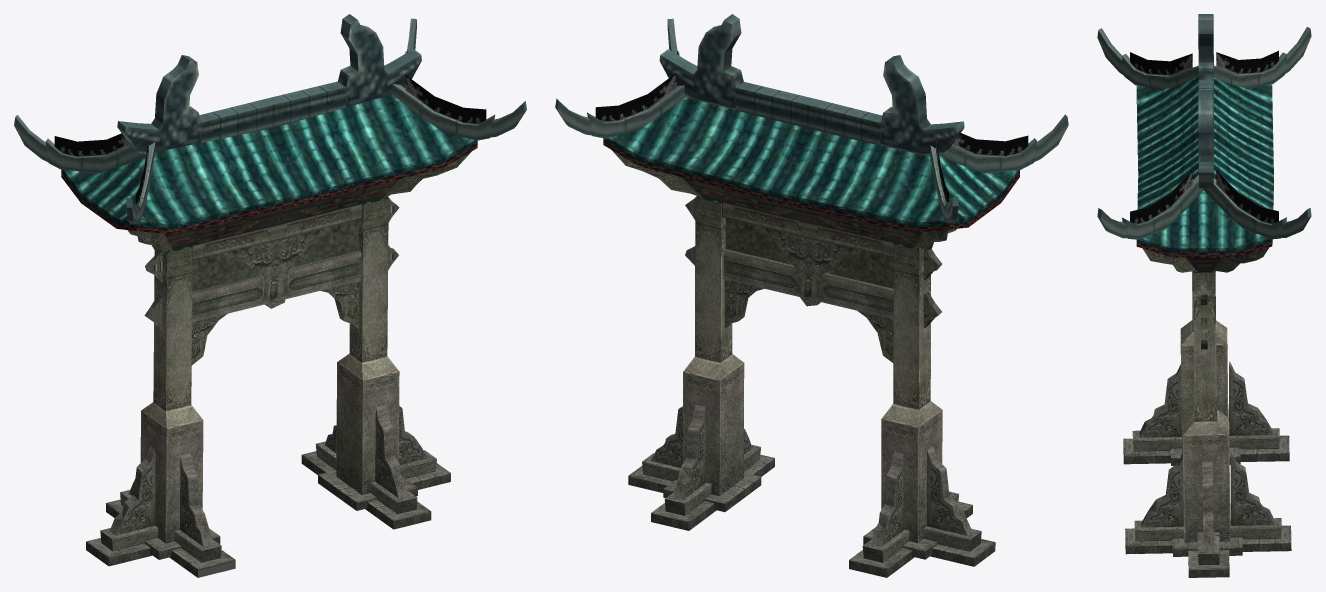
File: d_lianqi_paifang01_jz.FBX
The picture shows the model from 3 angles, left to right: view 1: azimuth 30°, elevation 25°; view 2: azimuth 150°, elevation 25°; view 3: azimuth 270°, elevation 25°; orthographic projection. The views are drawn at different scales.
Visible parts, largest first — view 1: d_lianqi_paifang01_jz_A02, d_lianqi_paifang01_jz_A01, d_lianqi_paifang01_jz_B; view 2: d_lianqi_paifang01_jz_A02, d_lianqi_paifang01_jz_A01, d_lianqi_paifang01_jz_B; view 3: d_lianqi_paifang01_jz_A01, d_lianqi_paifang01_jz_A02, d_lianqi_paifang01_jz_B.
Part boxes in pixels (box(x1,y1,x2,y2)): d_lianqi_paifang01_jz_A02: box(86, 151, 471, 577); d_lianqi_paifang01_jz_A01: box(14, 14, 526, 260); d_lianqi_paifang01_jz_B: box(54, 50, 486, 203); d_lianqi_paifang01_jz_A02: box(612, 150, 995, 577); d_lianqi_paifang01_jz_A01: box(555, 14, 1068, 257); d_lianqi_paifang01_jz_B: box(595, 50, 1028, 202); d_lianqi_paifang01_jz_A01: box(1097, 14, 1311, 273); d_lianqi_paifang01_jz_A02: box(1123, 247, 1291, 577); d_lianqi_paifang01_jz_B: box(1130, 50, 1278, 224).
Size of the model in its own units: 686 by 781 by 338.
